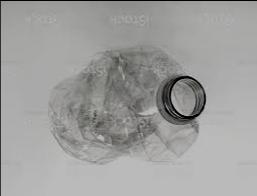Plastic: (44, 39, 203, 170)
